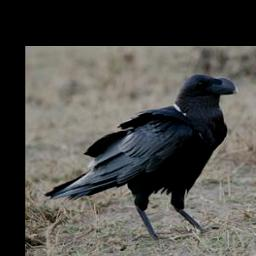Crow: (46, 73, 240, 241)
